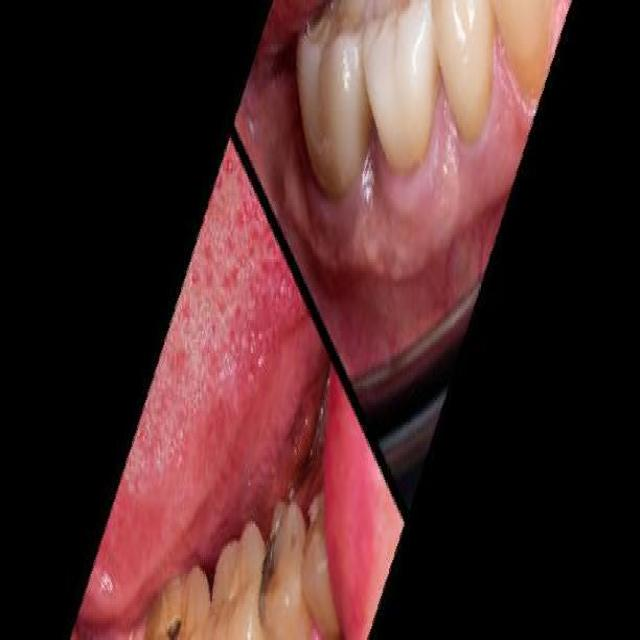caries: (162, 579, 193, 640)
